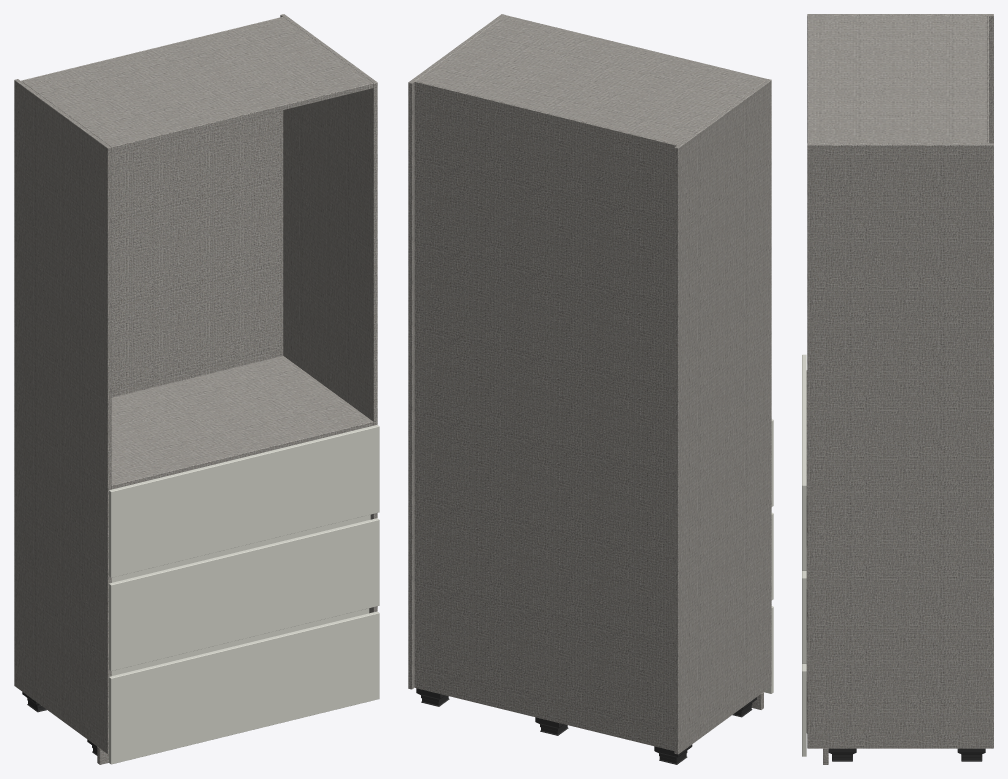
The model's file is cbib12170.gltf.
The picture shows the model from 3 angles, left to right: view 1: azimuth 30°, elevation 25°; view 2: azimuth 150°, elevation 25°; view 3: azimuth 270°, elevation 25°; orthographic projection.
Visible parts, largest first — view 1: CBIB12170; view 2: CBIB12170; view 3: CBIB12170.
Boxes of the visible parts, <box> form: CBIB12170: <box>14,14,379,764</box>; CBIB12170: <box>408,14,773,764</box>; CBIB12170: <box>802,14,993,764</box>.
Bounding box in the file's own units: 1 × 2.2 × 0.617.
4 materials, 3 textured.
